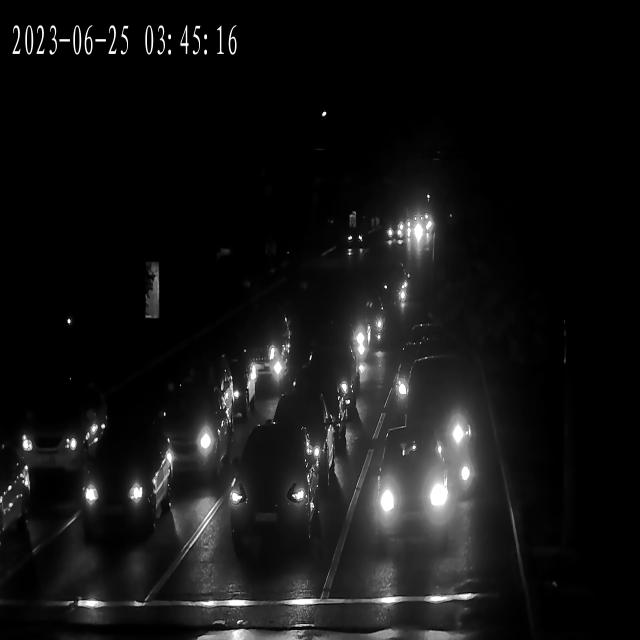Car: (72, 428, 173, 546), (2, 382, 108, 491), (223, 431, 318, 552), (396, 362, 478, 492), (136, 389, 228, 489), (370, 450, 458, 546), (272, 393, 336, 488), (235, 294, 293, 396), (402, 395, 474, 461), (320, 319, 370, 414), (305, 354, 354, 446), (202, 341, 256, 419), (375, 257, 413, 316), (349, 286, 385, 344), (385, 218, 406, 259), (344, 218, 365, 255), (412, 220, 429, 242)
